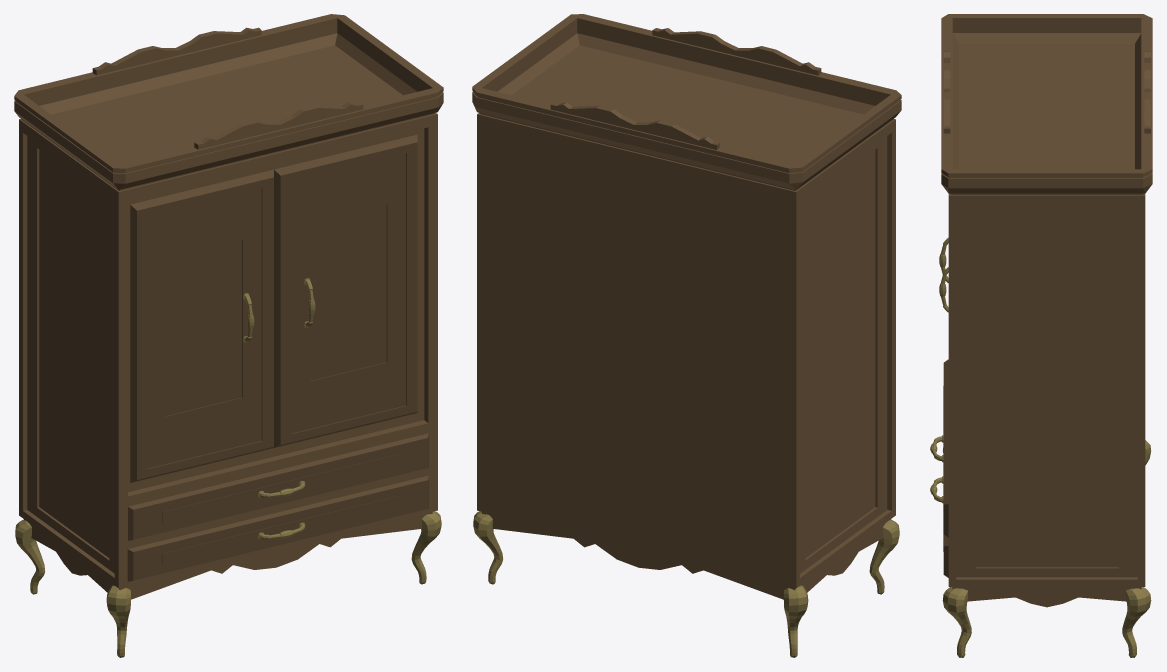
Rendered from ShortCloset.gltf.
3 views of the same model, side by side, from view 1: azimuth 30°, elevation 25°; view 2: azimuth 150°, elevation 25°; view 3: azimuth 270°, elevation 25° (orthographic).
Parts seen in each view (by area): view 1: ShortCloset, ShortCloset_RightDoor, ShortCloset_LeftDoor, ShortCloset_TopDrawer, ShortCloset_BottomDrawer; view 2: ShortCloset; view 3: ShortCloset, ShortCloset_TopDrawer, ShortCloset_BottomDrawer.
Part boxes in pixels (<box>): ShortCloset: <box>14,14,443,657</box>; ShortCloset_RightDoor: <box>274,134,417,447</box>; ShortCloset_LeftDoor: <box>130,169,273,482</box>; ShortCloset_TopDrawer: <box>128,433,428,540</box>; ShortCloset_BottomDrawer: <box>127,475,428,581</box>; ShortCloset: <box>472,14,901,657</box>; ShortCloset: <box>941,14,1152,657</box>; ShortCloset_TopDrawer: <box>930,359,948,537</box>; ShortCloset_BottomDrawer: <box>930,476,948,577</box>.
Bounding box in the file's own units: 1.55 × 2.27 × 0.9068.
